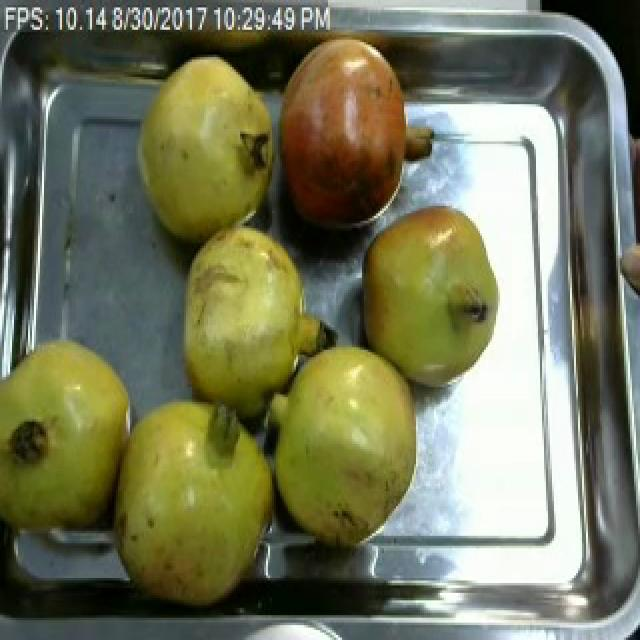fruit: (88, 370, 290, 620), (256, 320, 432, 563), (0, 322, 152, 550), (172, 211, 340, 417), (270, 22, 418, 246), (350, 196, 504, 397), (128, 52, 282, 251), (614, 225, 640, 308)
